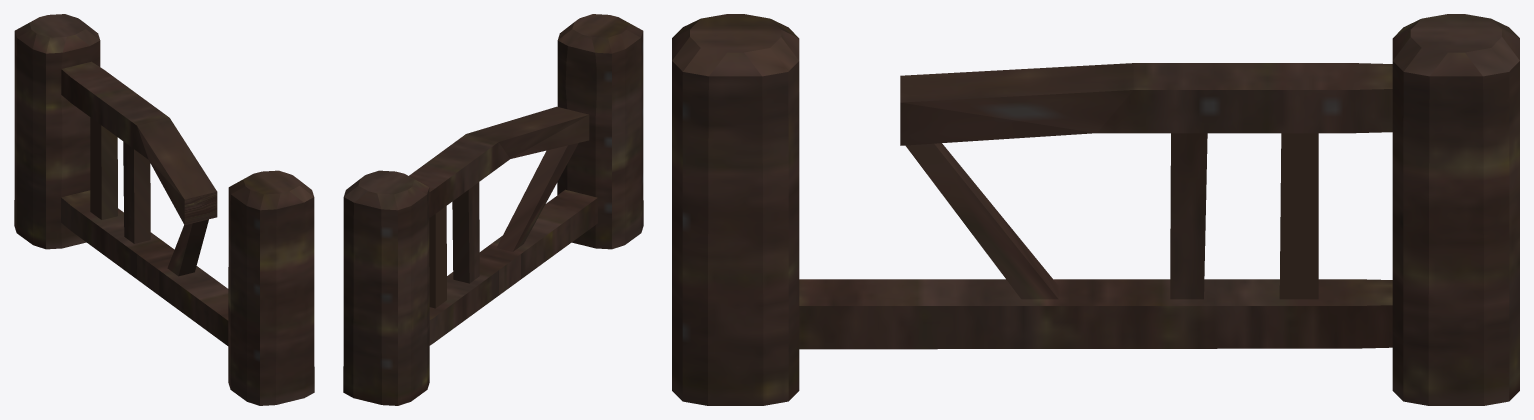
The model's file is france_v2.fbx.
3 views of the same model, side by side, from view 1: azimuth 30°, elevation 25°; view 2: azimuth 150°, elevation 25°; view 3: azimuth 270°, elevation 25° (orthographic). The views are drawn at different scales.
Parts seen in each view (by area): view 1: Plane.012; view 2: Plane.012; view 3: Plane.012.
Boxes of the visible parts, x1,y1,x2,y2 form: Plane.012: (14, 14, 314, 405); Plane.012: (343, 14, 643, 405); Plane.012: (672, 14, 1519, 405).
Size of the model in its own units: 32.4 by 90 by 200.
